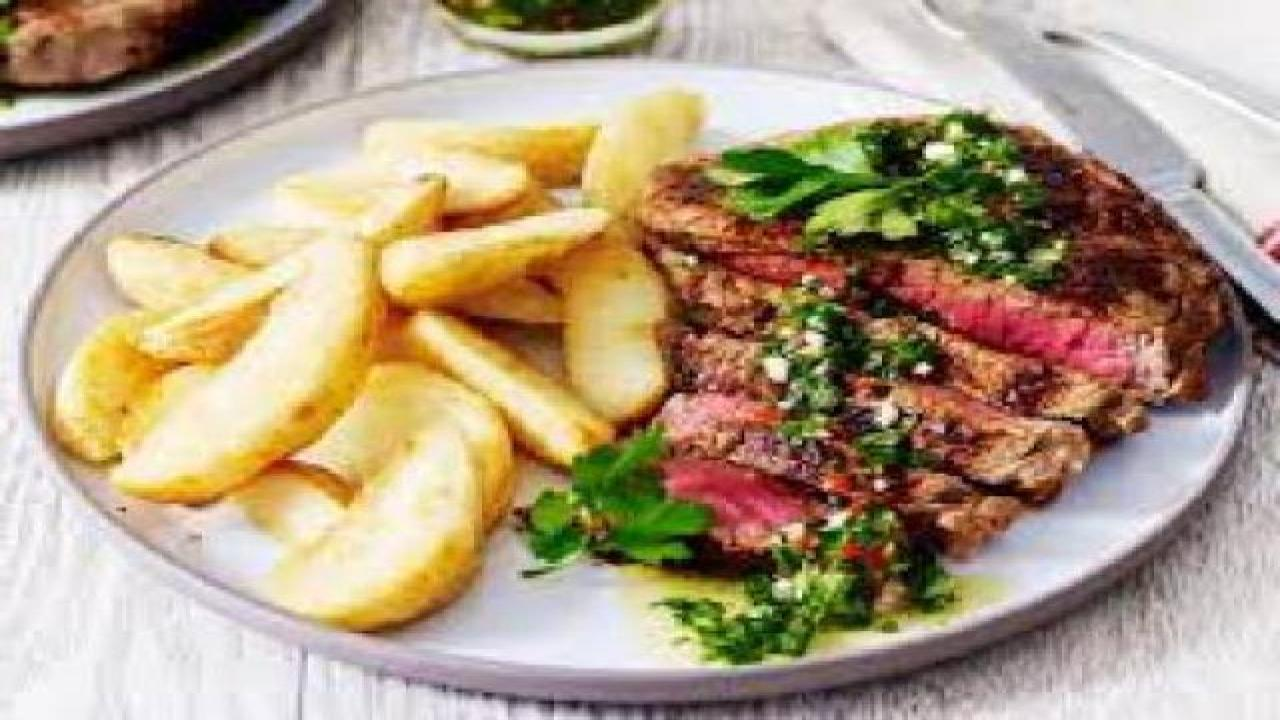Carne: (655, 275, 1146, 550)
